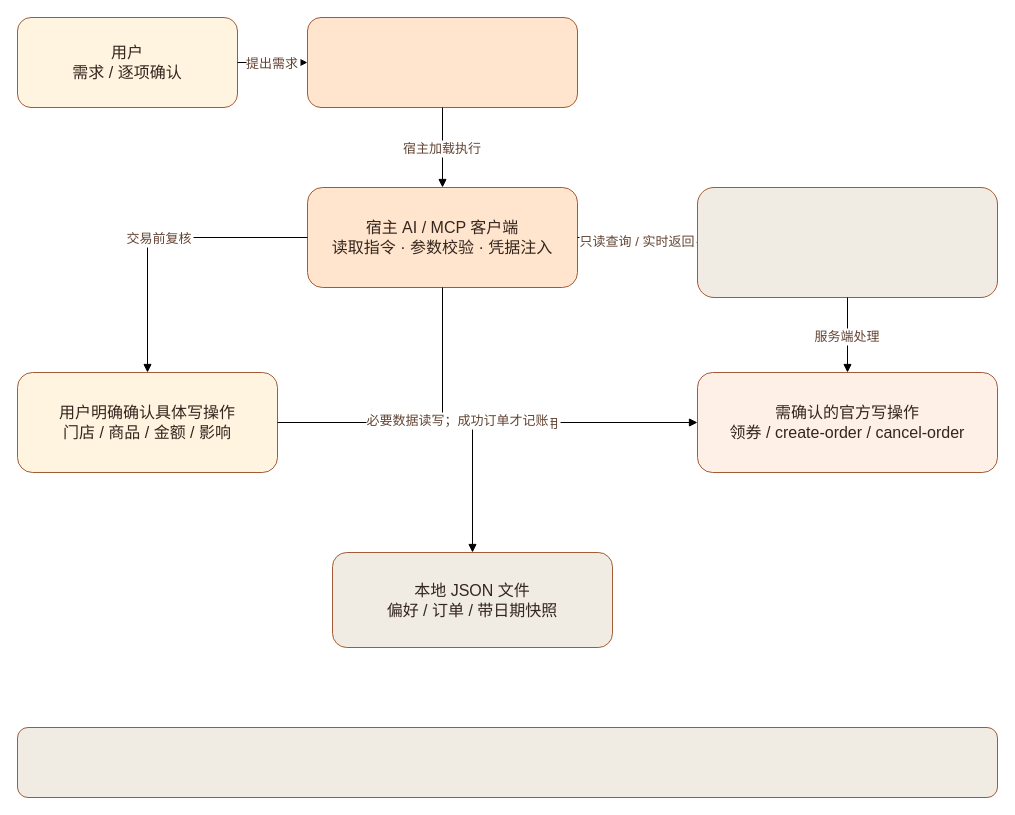
This 1015x815 diagram has some shape labels left out. Here are the shapes that lost their labels. From the top down, the centre of each, then its label:
the point at 442,62: Markdown Skill 流程与约束；非服务端
the point at 847,242: 官方 MCP 服务边界 菜单 / 营养 / 券 / 核价 / 订单
the point at 507,762: 隔离 HTML 概念原型 固定合成数据；无账户 / 网络 / 订单
